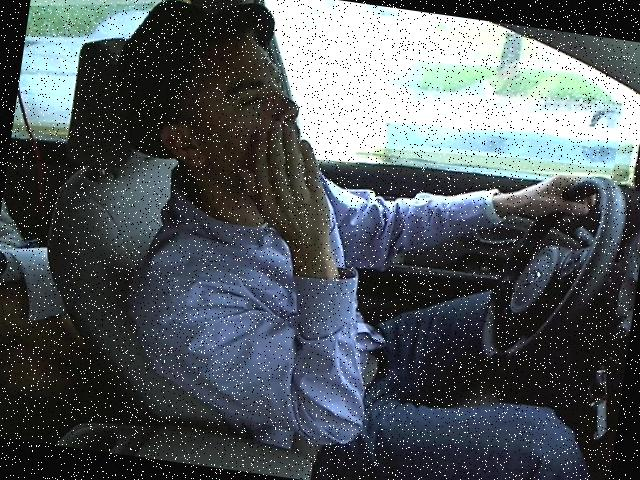c6 - Hair and Makeup: (68, 0, 639, 461)
